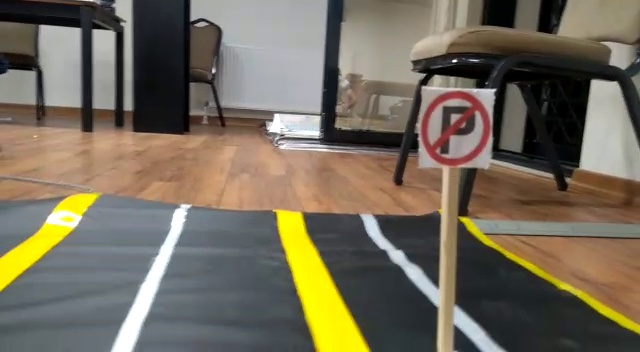park_yapilmaz: (421, 86, 494, 164)
